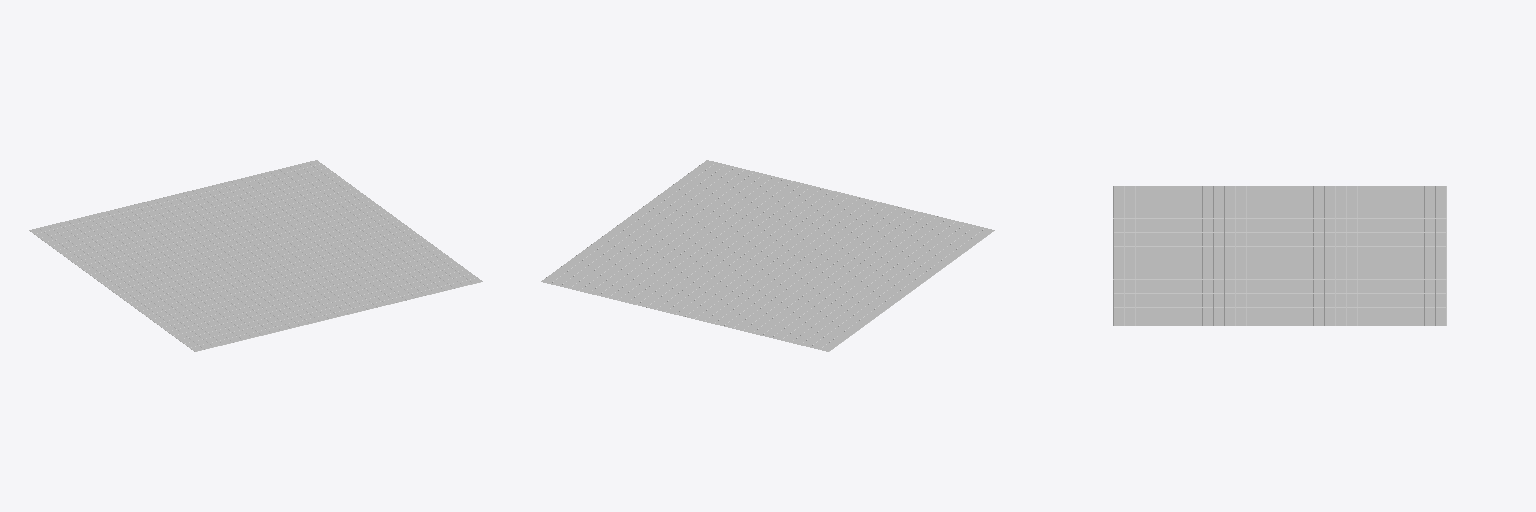
Rendered from floor_tiled.obj.
3 renders of one model, left to right at view 1: azimuth 30°, elevation 25°; view 2: azimuth 150°, elevation 25°; view 3: azimuth 270°, elevation 25°, orthographic.
Parts seen in each view (by area): view 1: Plane_Plane.001; view 2: Plane_Plane.001; view 3: Plane_Plane.001.
Boxes of the visible parts, <box> form: Plane_Plane.001: <box>29,160,482,351</box>; Plane_Plane.001: <box>541,160,994,351</box>; Plane_Plane.001: <box>1113,186,1446,325</box>.
Bounding box in the file's own units: 60 × 0.025 × 60.